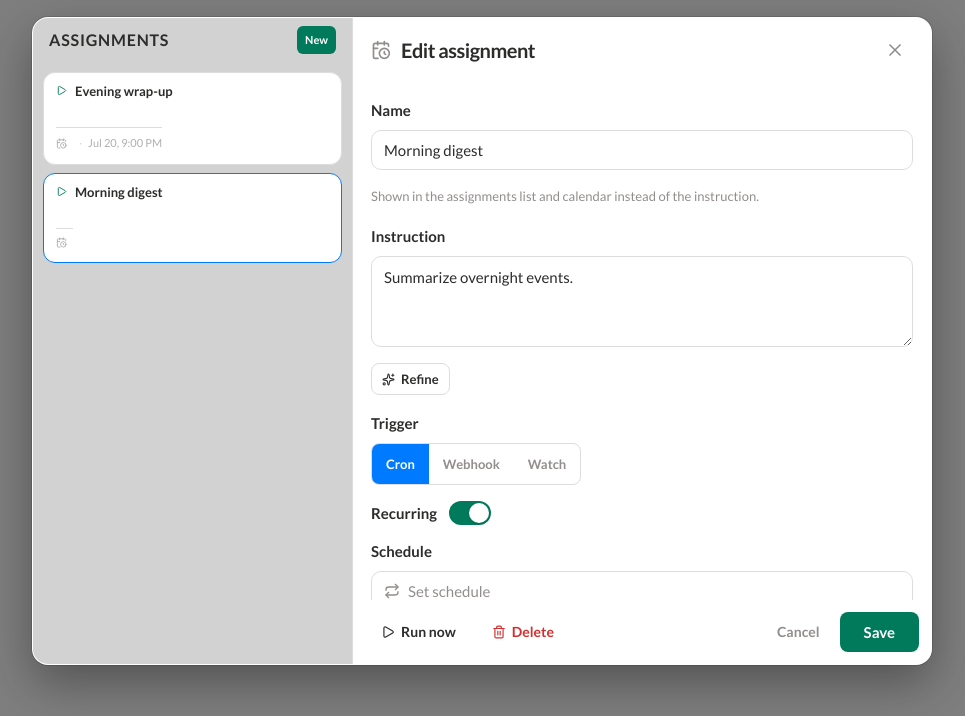
Test: AssignmentEditorModal › lists the agent's other assignments in the left panel and switches to one on click
Click the button with test id "assignment-editor-tile" at (124, 91), box [43, 72, 342, 165]
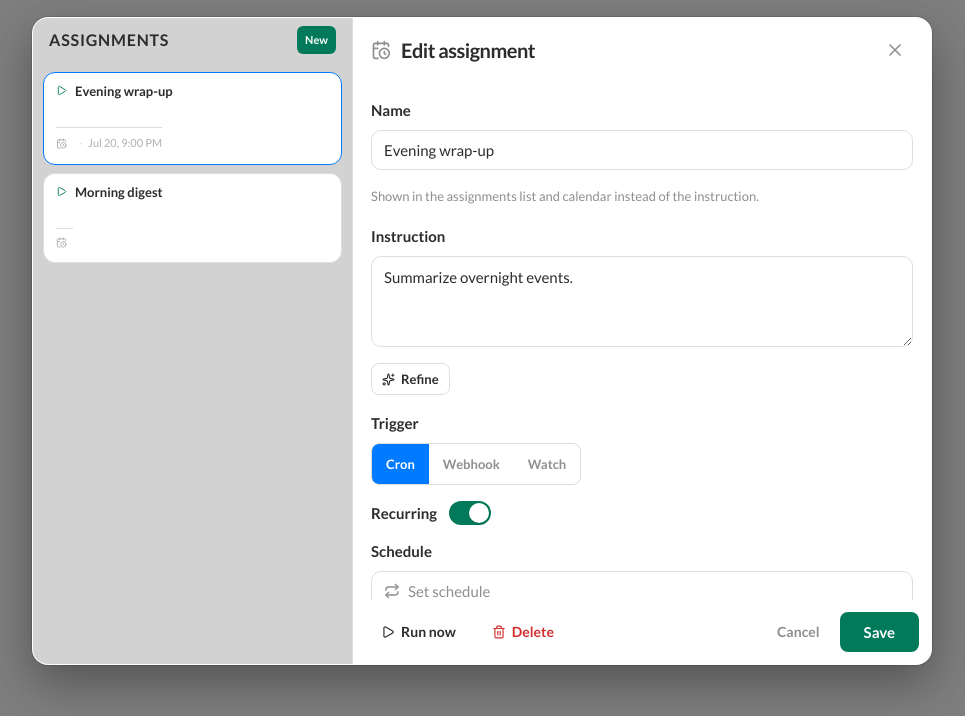
Check: the field with test id "assignment-editor-name-input" holds "Evening wrap-up", box [371, 130, 913, 170]
